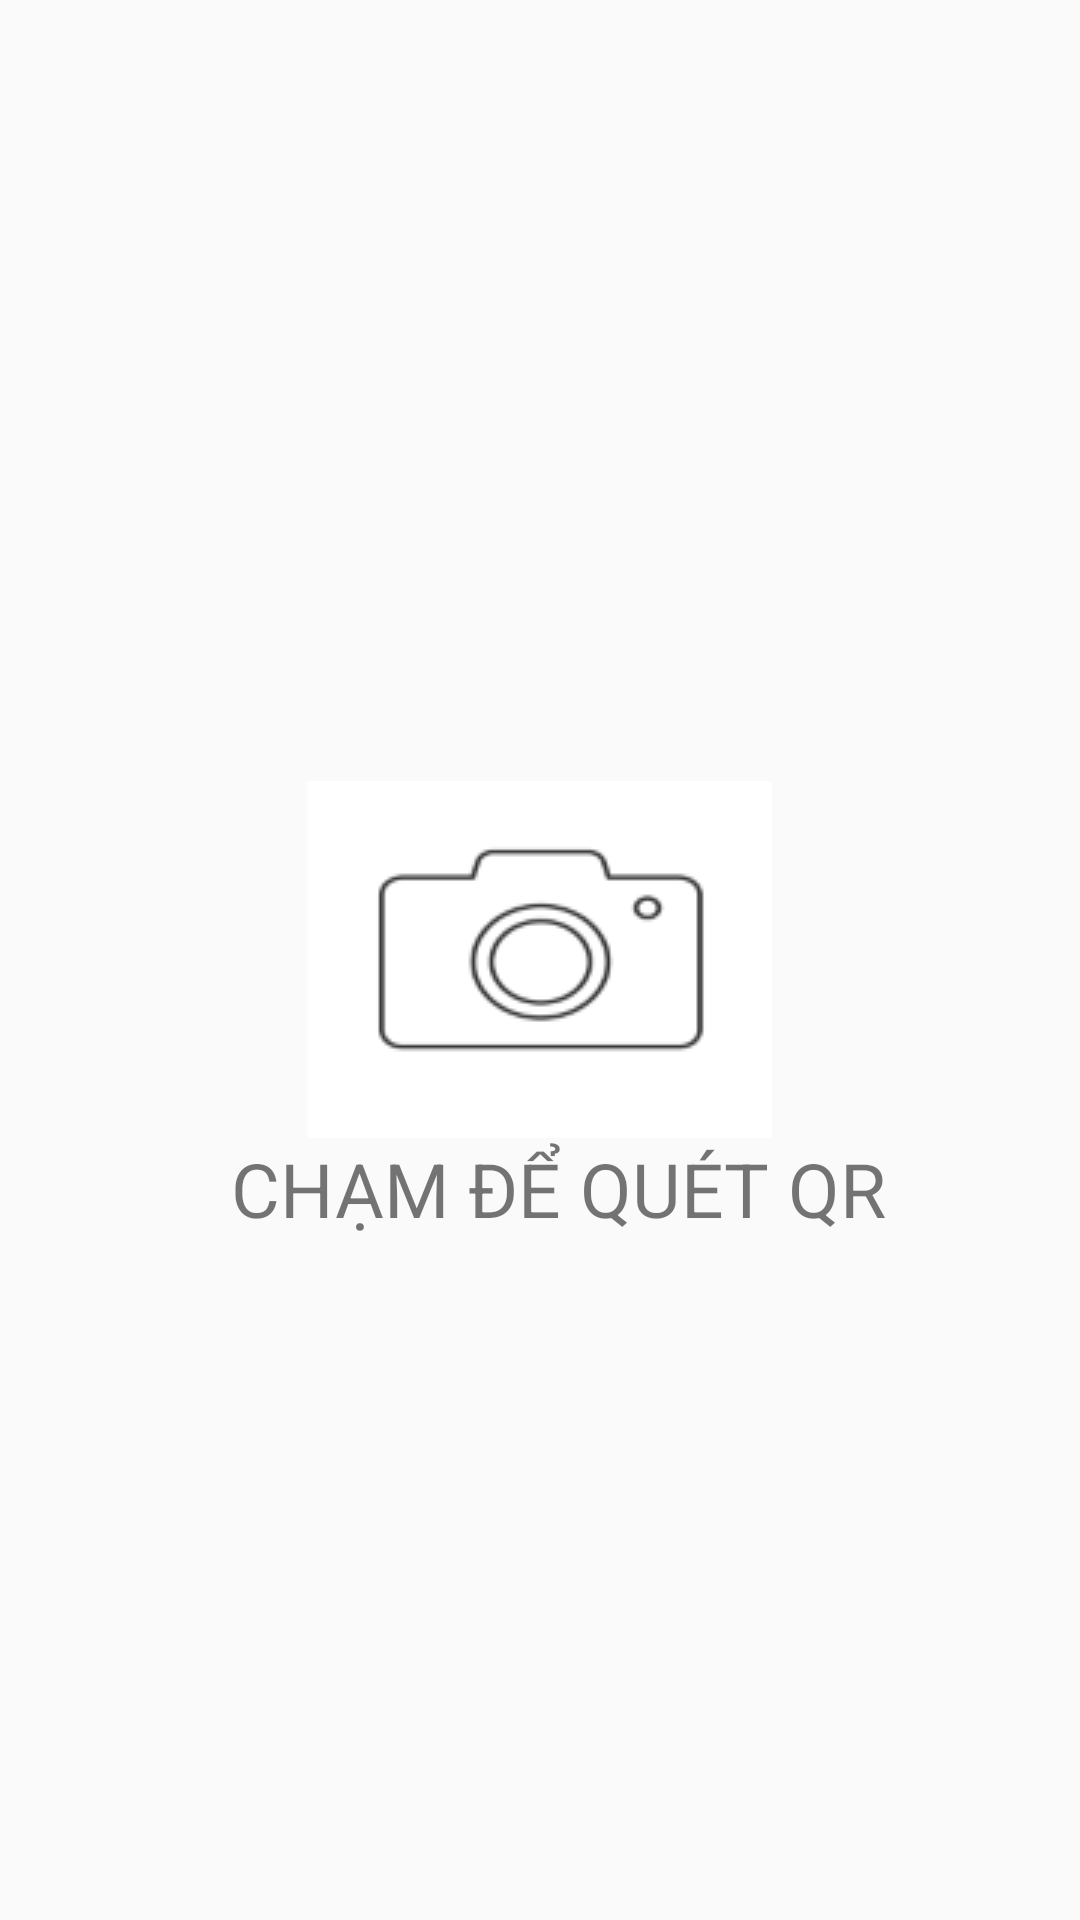

Screen size 1080 × 1920. Icon name, then its box in pixels as box(x1, y1, x2, y2):
camera: box(378, 849, 704, 1051)
